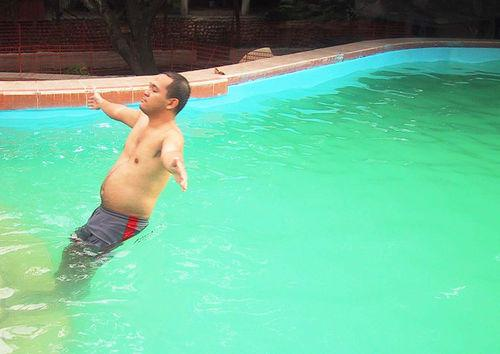human: (59, 69, 196, 286)
